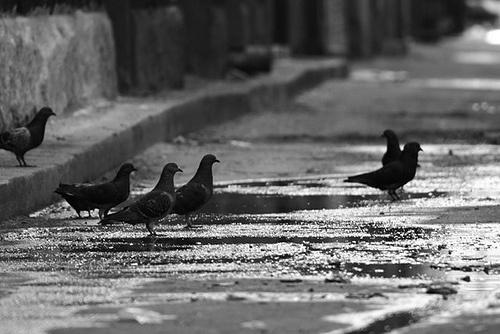bird: (102, 162, 185, 237), (344, 141, 425, 201), (61, 163, 138, 219), (172, 154, 222, 230), (1, 106, 57, 168), (54, 179, 97, 220), (380, 128, 404, 169)
